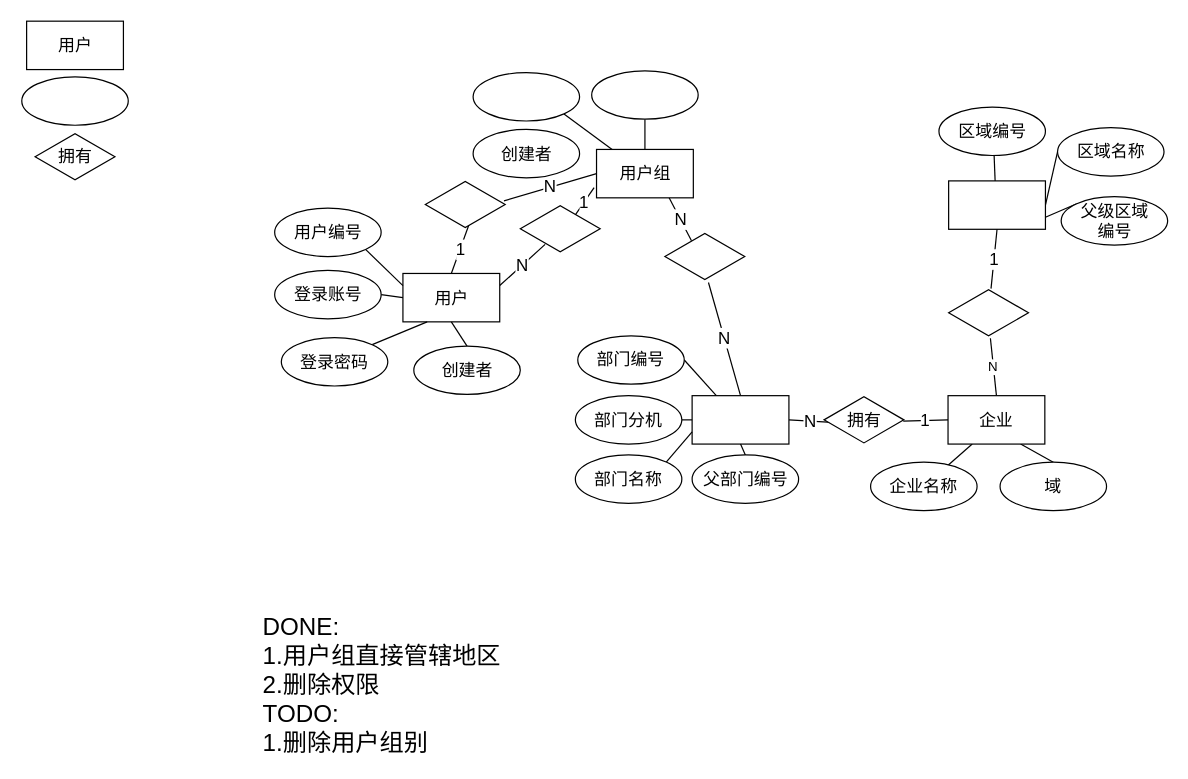
Image size: 1188x779. Some labels were removed from this diagram. Each missing label, with the centre of its shape:
位于: (987,312)
创建: (464,204)
区域: (996,204)
属于: (559,228)
用户状态名称: (74,100)
用户组名称: (644,94)
用户组编号: (526,96)
管辖: (704,256)
部门: (740,419)
